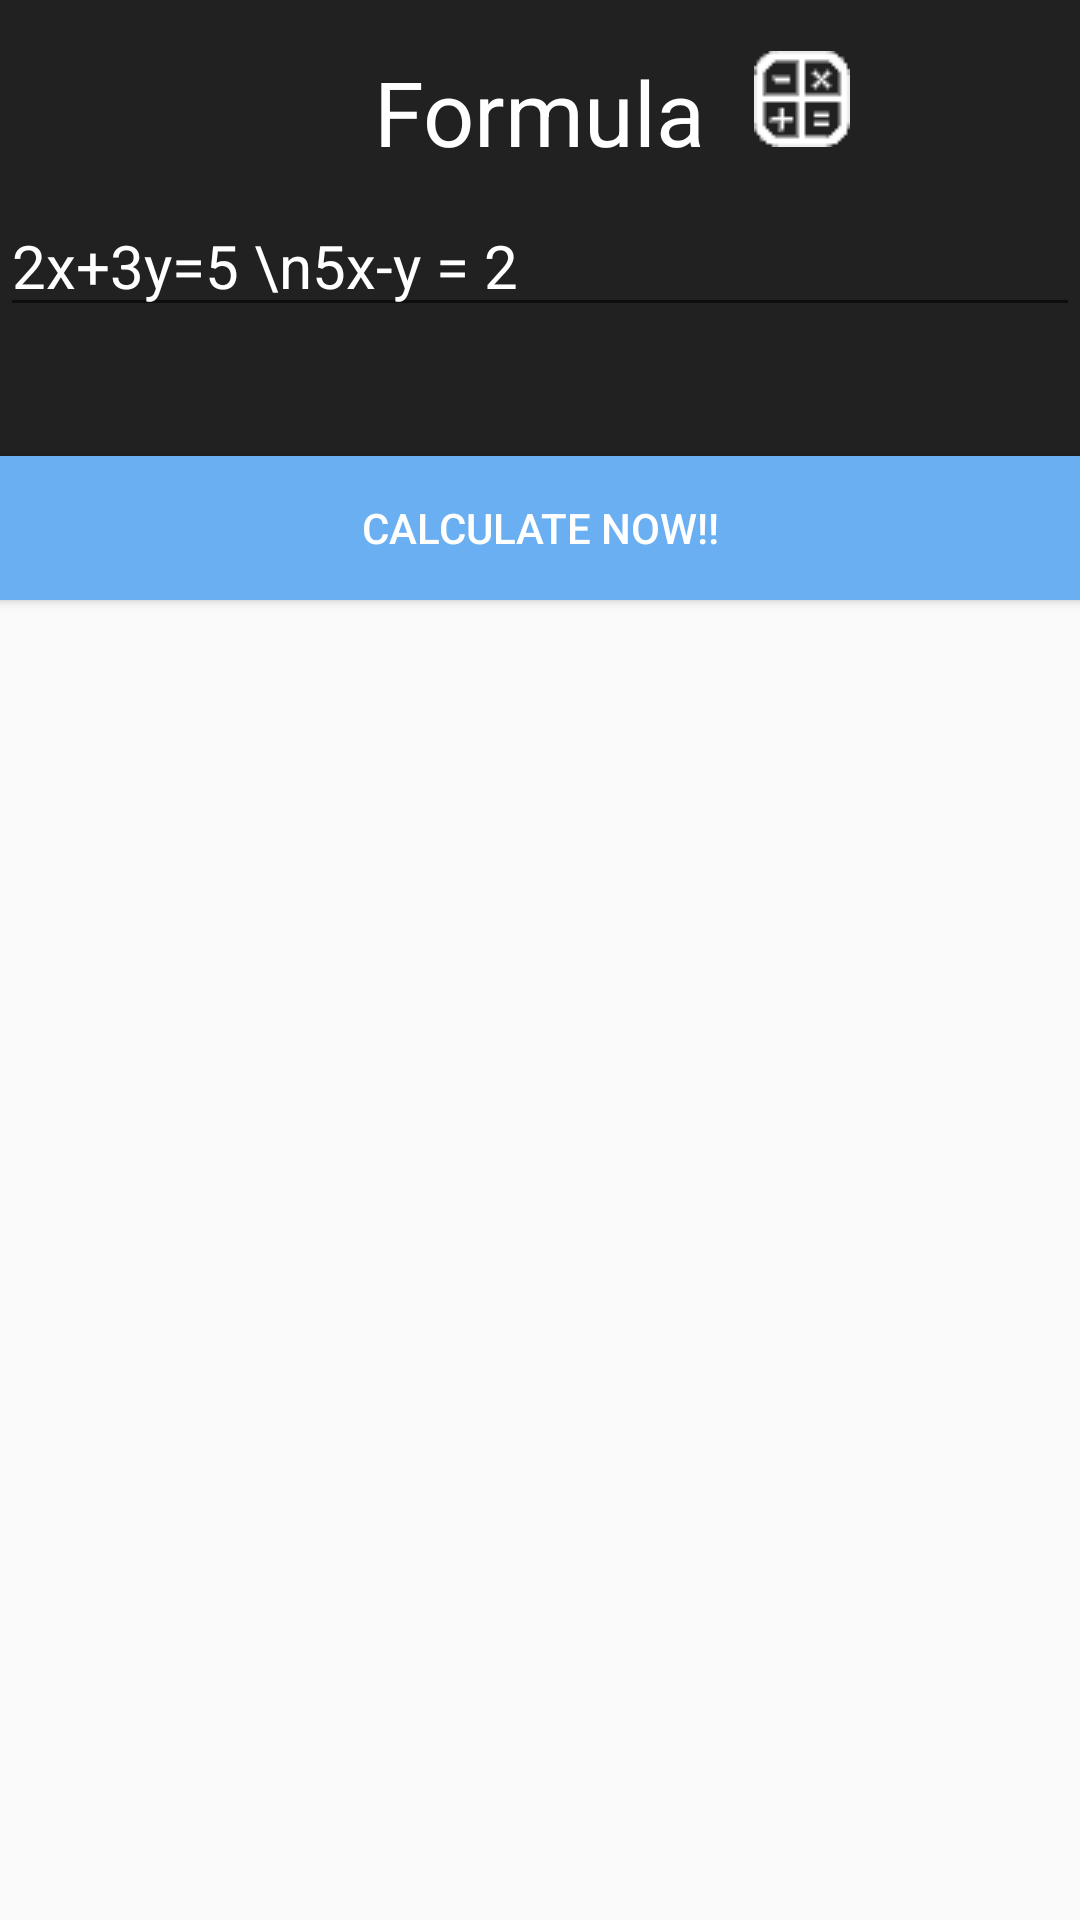

Locate icon controls on the screen. Image size 1080w x 1920h, boxes as (x1, y1, x2, y2).
calculator: (754, 51, 850, 147)
